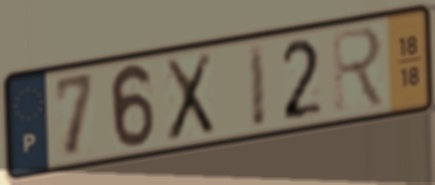2: (279, 35, 325, 123)
6: (107, 60, 157, 153)
7: (53, 69, 97, 162)
I: (245, 39, 269, 133)
R: (329, 23, 389, 116)
X: (162, 49, 217, 147)
